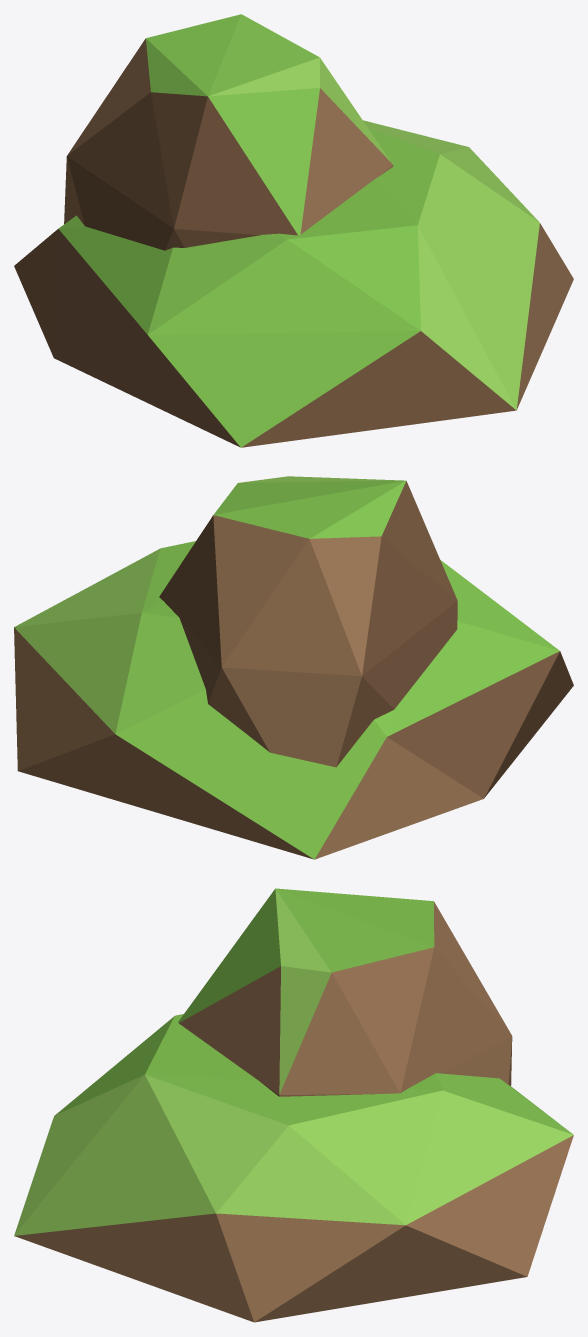
The model's file is rock_smallTopB.glb.
3 views of the same model, one above another, from view 1: azimuth 30°, elevation 25°; view 2: azimuth 150°, elevation 25°; view 3: azimuth 270°, elevation 25° (orthographic).
Visible parts, largest first — view 1: rock_smallTopB; view 2: rock_smallTopB; view 3: rock_smallTopB.
Boxes of the visible parts, left/top/right/bottom form: rock_smallTopB: left=14, top=14, right=573, bottom=447; rock_smallTopB: left=14, top=476, right=573, bottom=859; rock_smallTopB: left=14, top=888, right=573, bottom=1322.
Size of the model in its own units: 0.5205 by 0.2762 by 0.537.
Materials: 1 (1 with a texture image).
